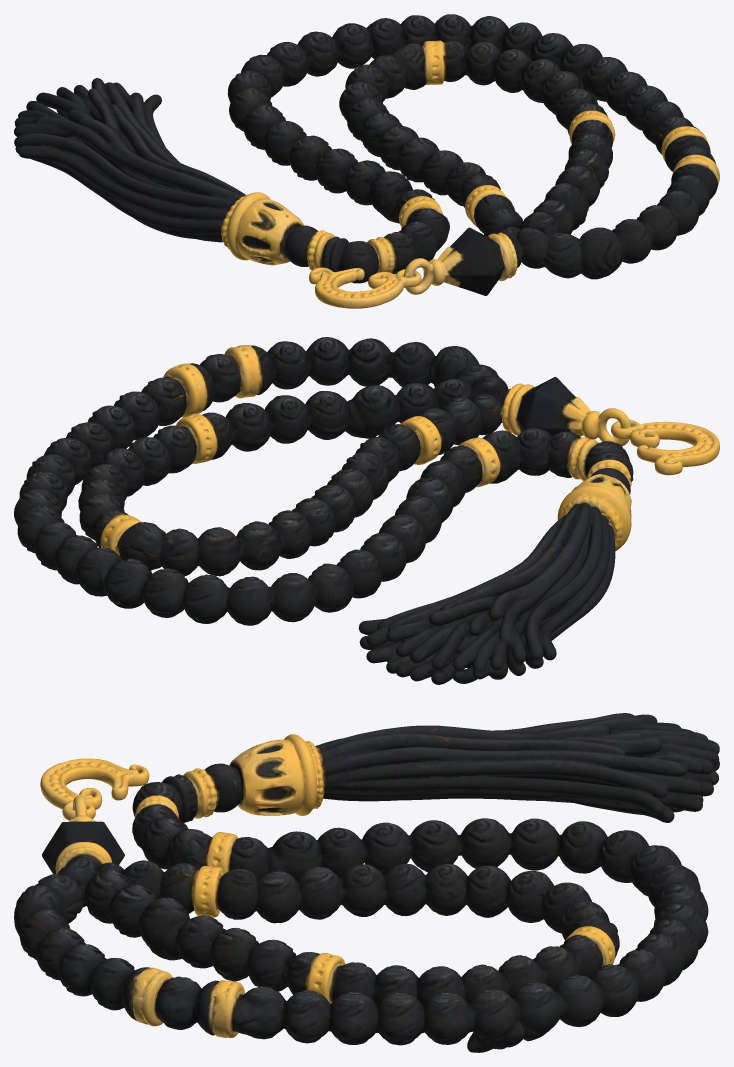
The model's file is tasbih-01-midnight-onyx-gold.glb.
3 renders of one model, top to bottom at view 1: azimuth 30°, elevation 25°; view 2: azimuth 150°, elevation 25°; view 3: azimuth 270°, elevation 25°, orthographic. The views are drawn at different scales.
Parts seen in each view (by area): view 1: mesh_node; view 2: mesh_node; view 3: mesh_node.
Boxes of the visible parts, bbox=[...] form: mesh_node: bbox=[14, 14, 719, 308]; mesh_node: bbox=[14, 337, 719, 684]; mesh_node: bbox=[14, 713, 719, 1052].
Bounding box in the file's own units: 1.9 × 0.2147 × 1.83.
Materials: 1 (1 with a texture image).
